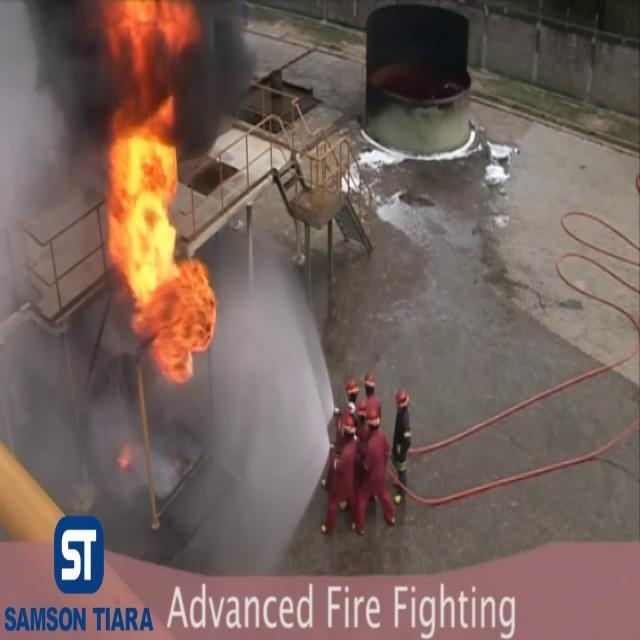Fire: (91, 1, 215, 380)
Smoke: (0, 0, 134, 427)
